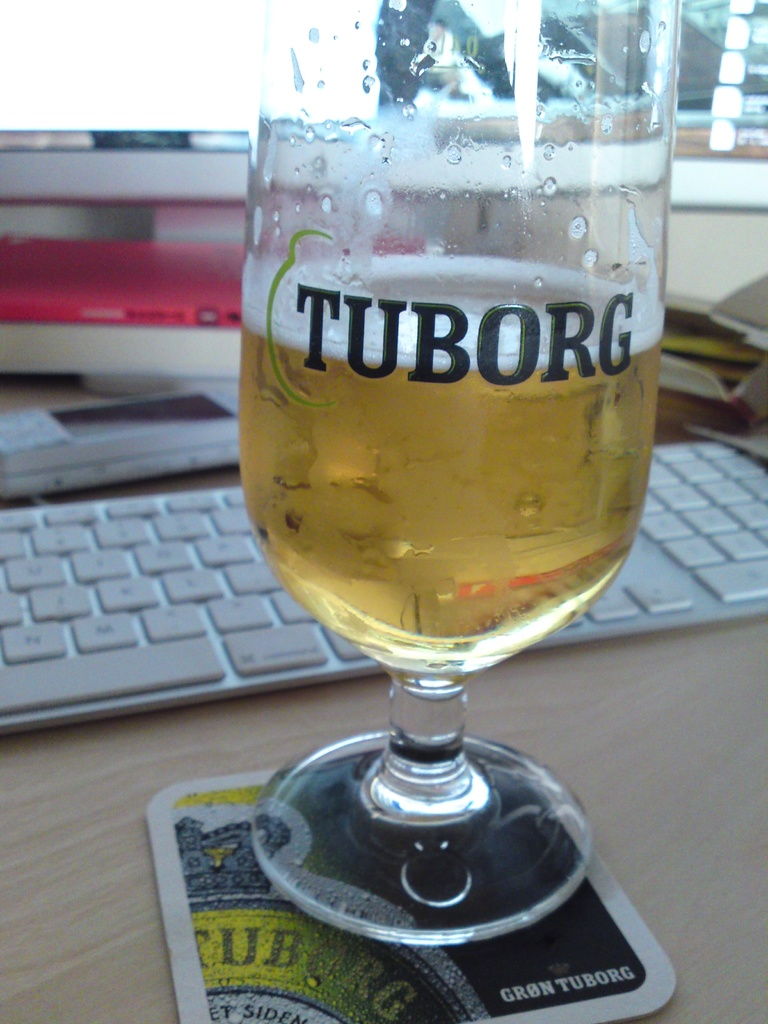Beer: (241, 252, 659, 656)
